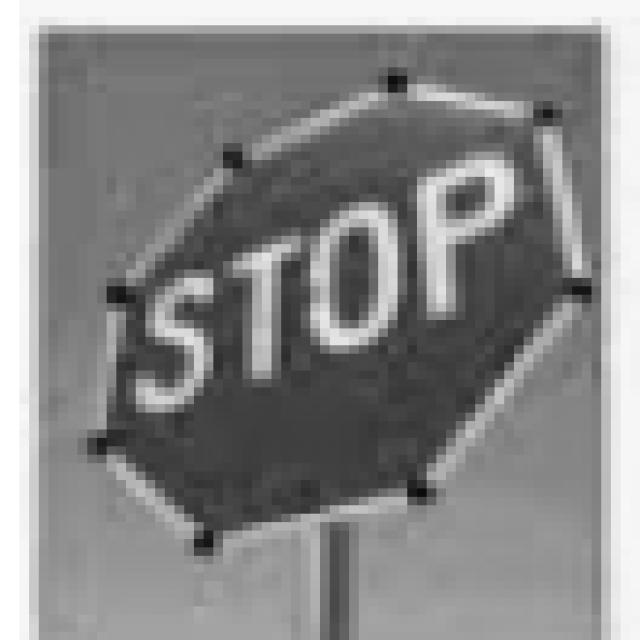Stop-signs: (102, 92, 584, 552)
